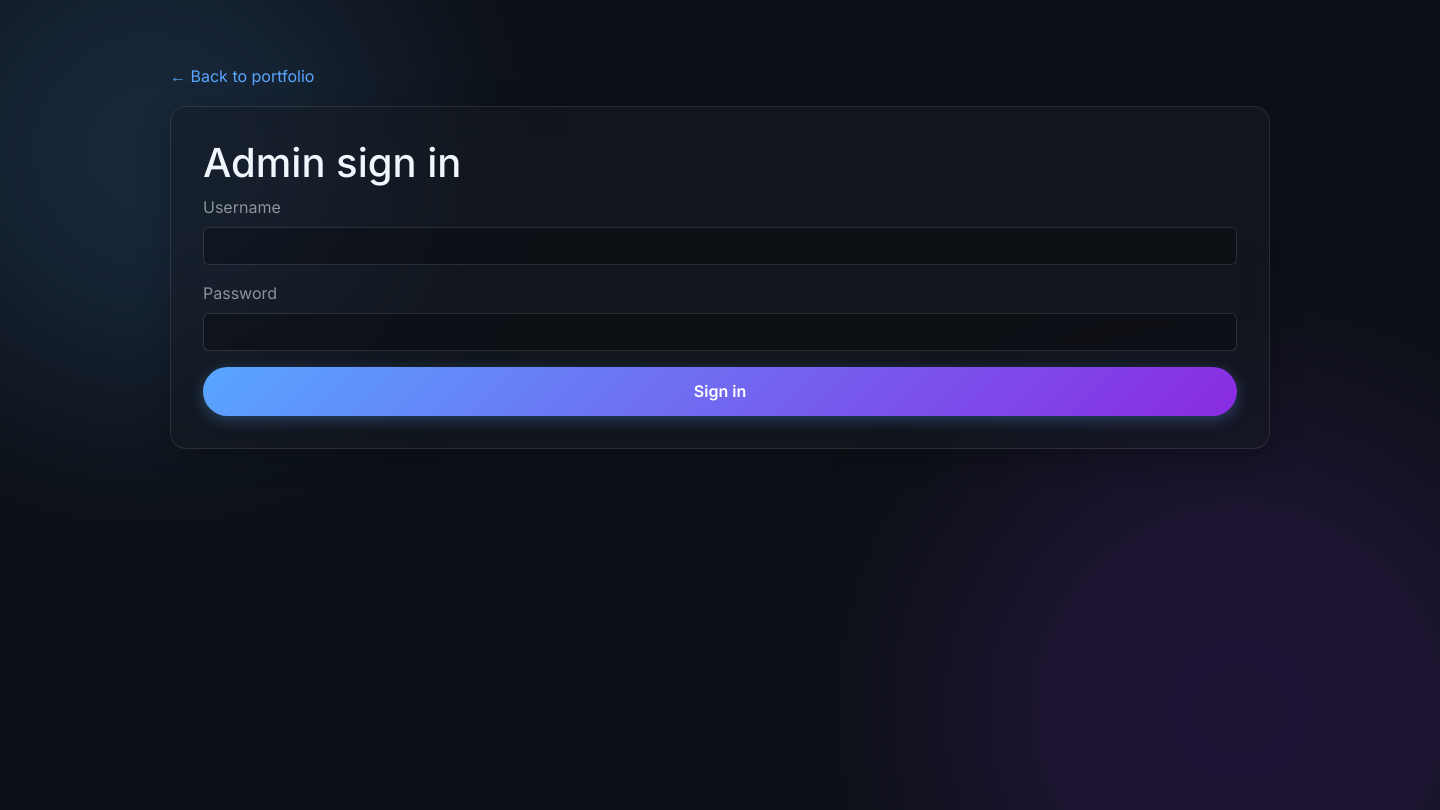
admin login › shows the rate-limit message from the API
In the field labelled "Username": (720, 246) [203,227,1237,265], type "a"
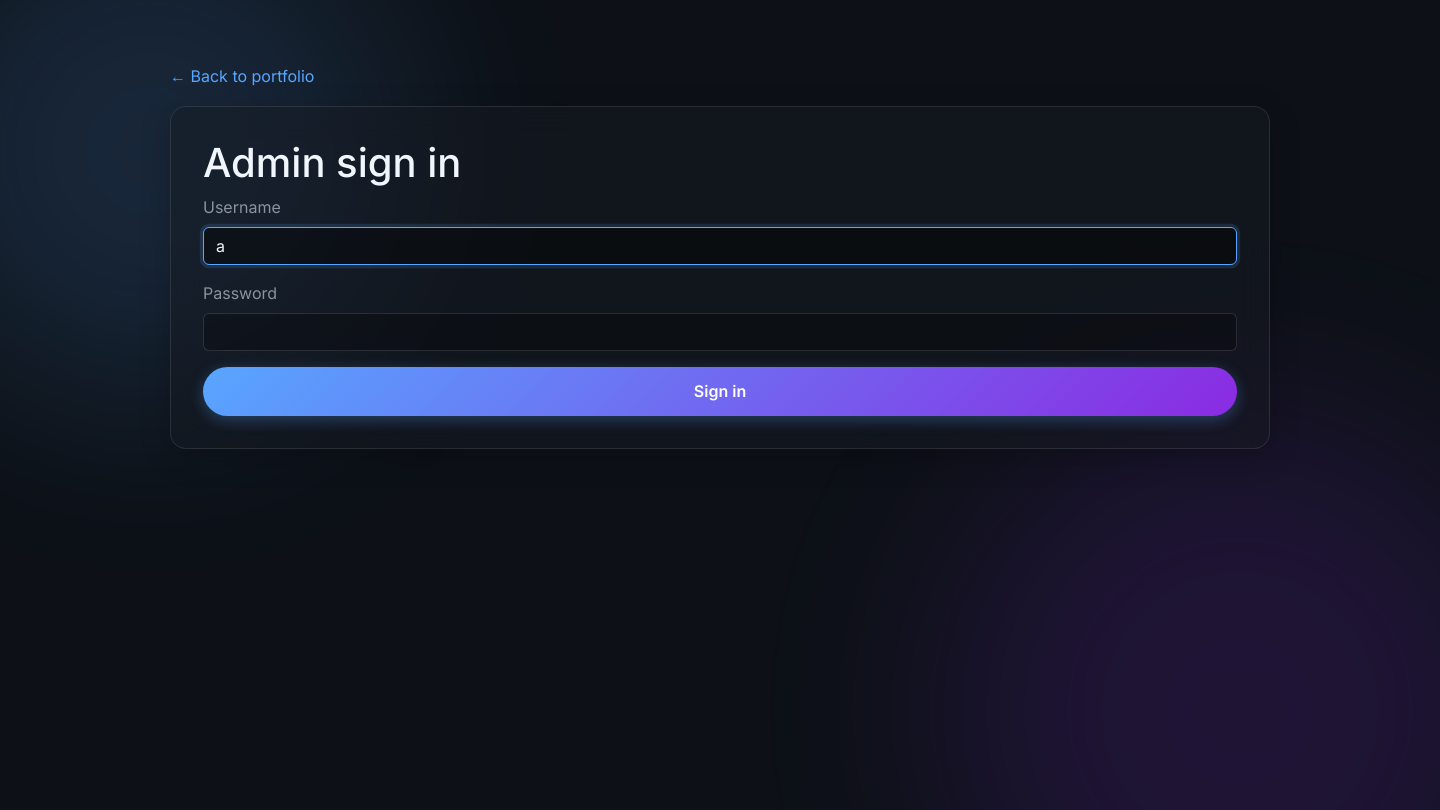
In the password field labelled "Password": (720, 332) [203,313,1237,351], type "b"
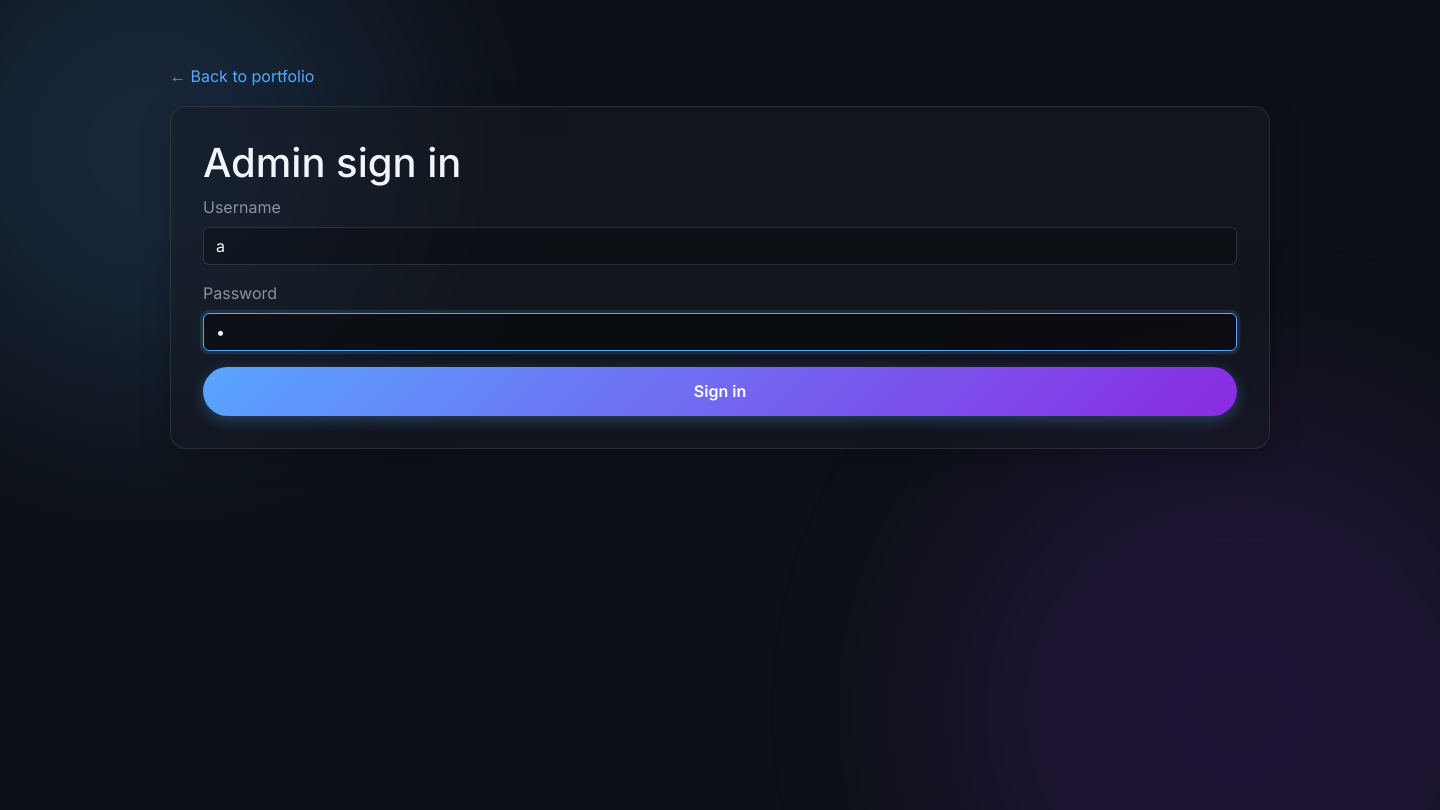
Click the button "Sign in": (720, 391) [203,367,1237,416]
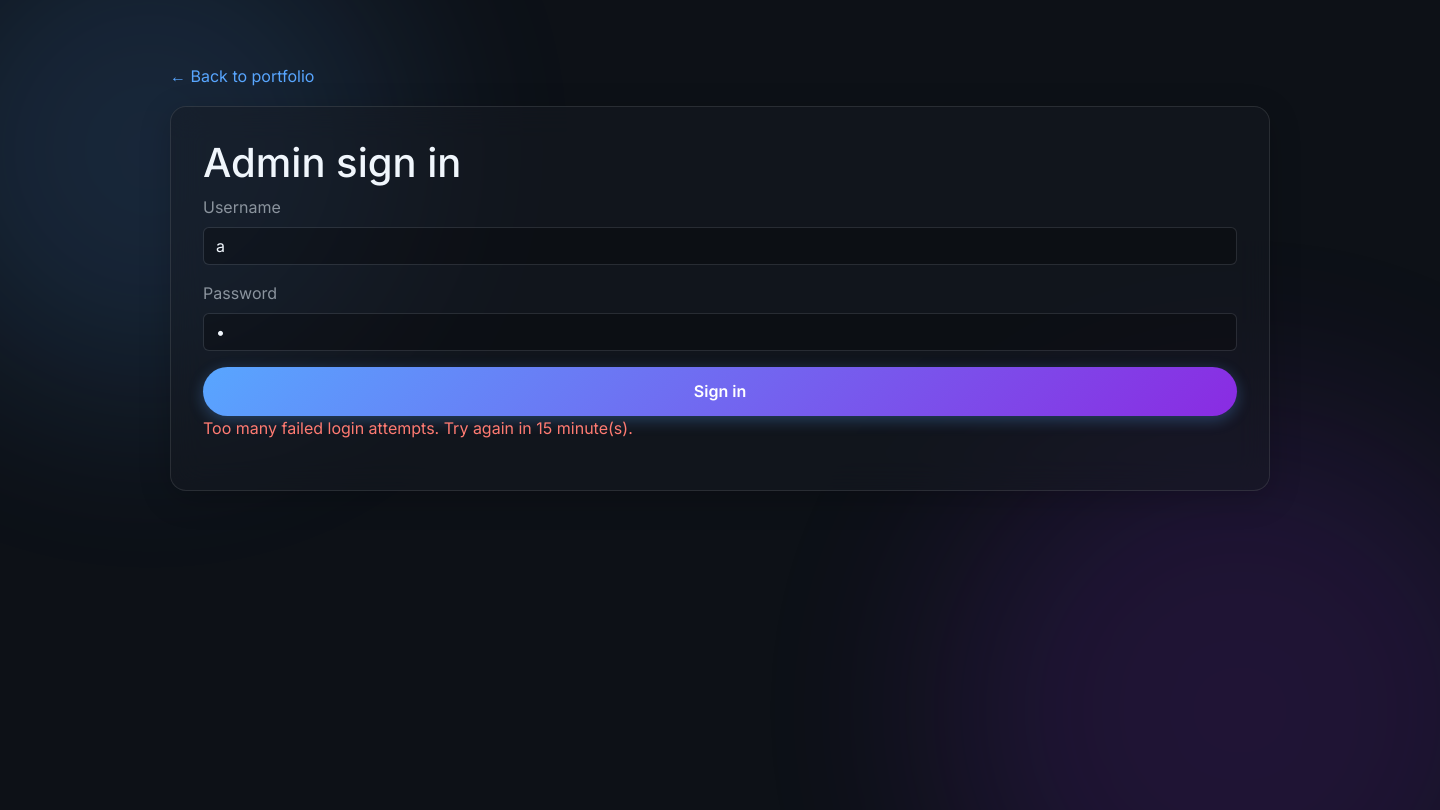
Now the message shows "Too many failed login attempts", box [203,418,633,438]
